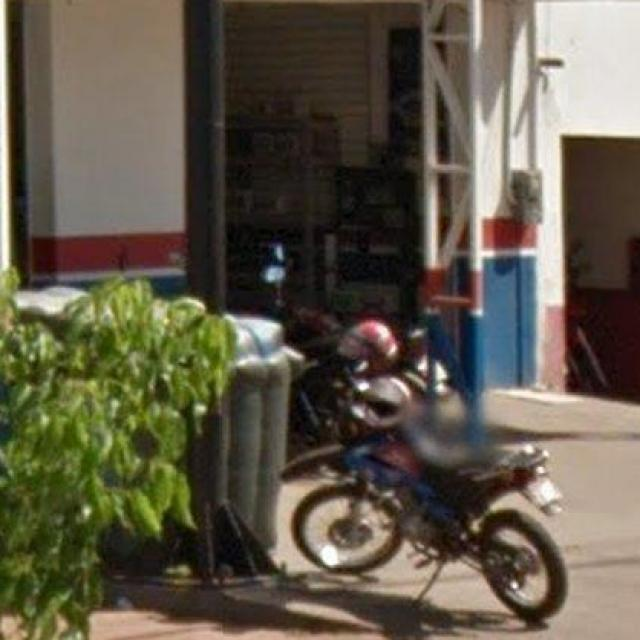bicycle: (317, 372, 560, 640)
